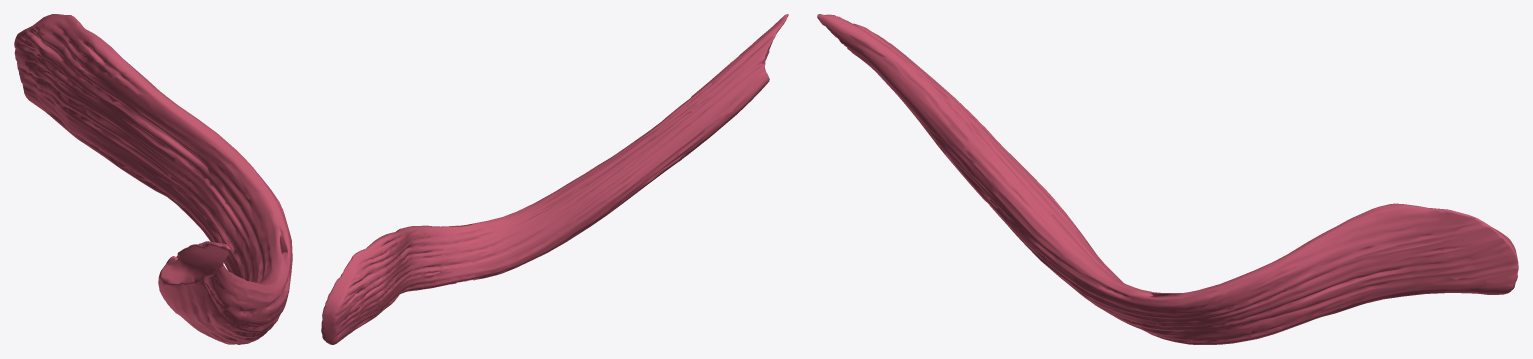
3 renders of one model, left to right at view 1: azimuth 30°, elevation 25°; view 2: azimuth 150°, elevation 25°; view 3: azimuth 270°, elevation 25°, orthographic. The views are drawn at different scales.
Visible parts, largest first — view 1: 右侧茎突咽肌; view 2: 右侧茎突咽肌; view 3: 右侧茎突咽肌.
Part boxes in pixels (x1,y1,x2,y2): 右侧茎突咽肌: (14, 14, 292, 344); 右侧茎突咽肌: (321, 14, 788, 344); 右侧茎突咽肌: (817, 14, 1518, 344).
Bounding box in the file's own units: 0.0409 × 0.0358 × 0.0983.
